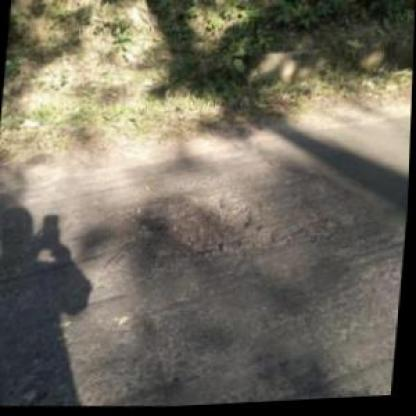pothole: (154, 187, 287, 272)
